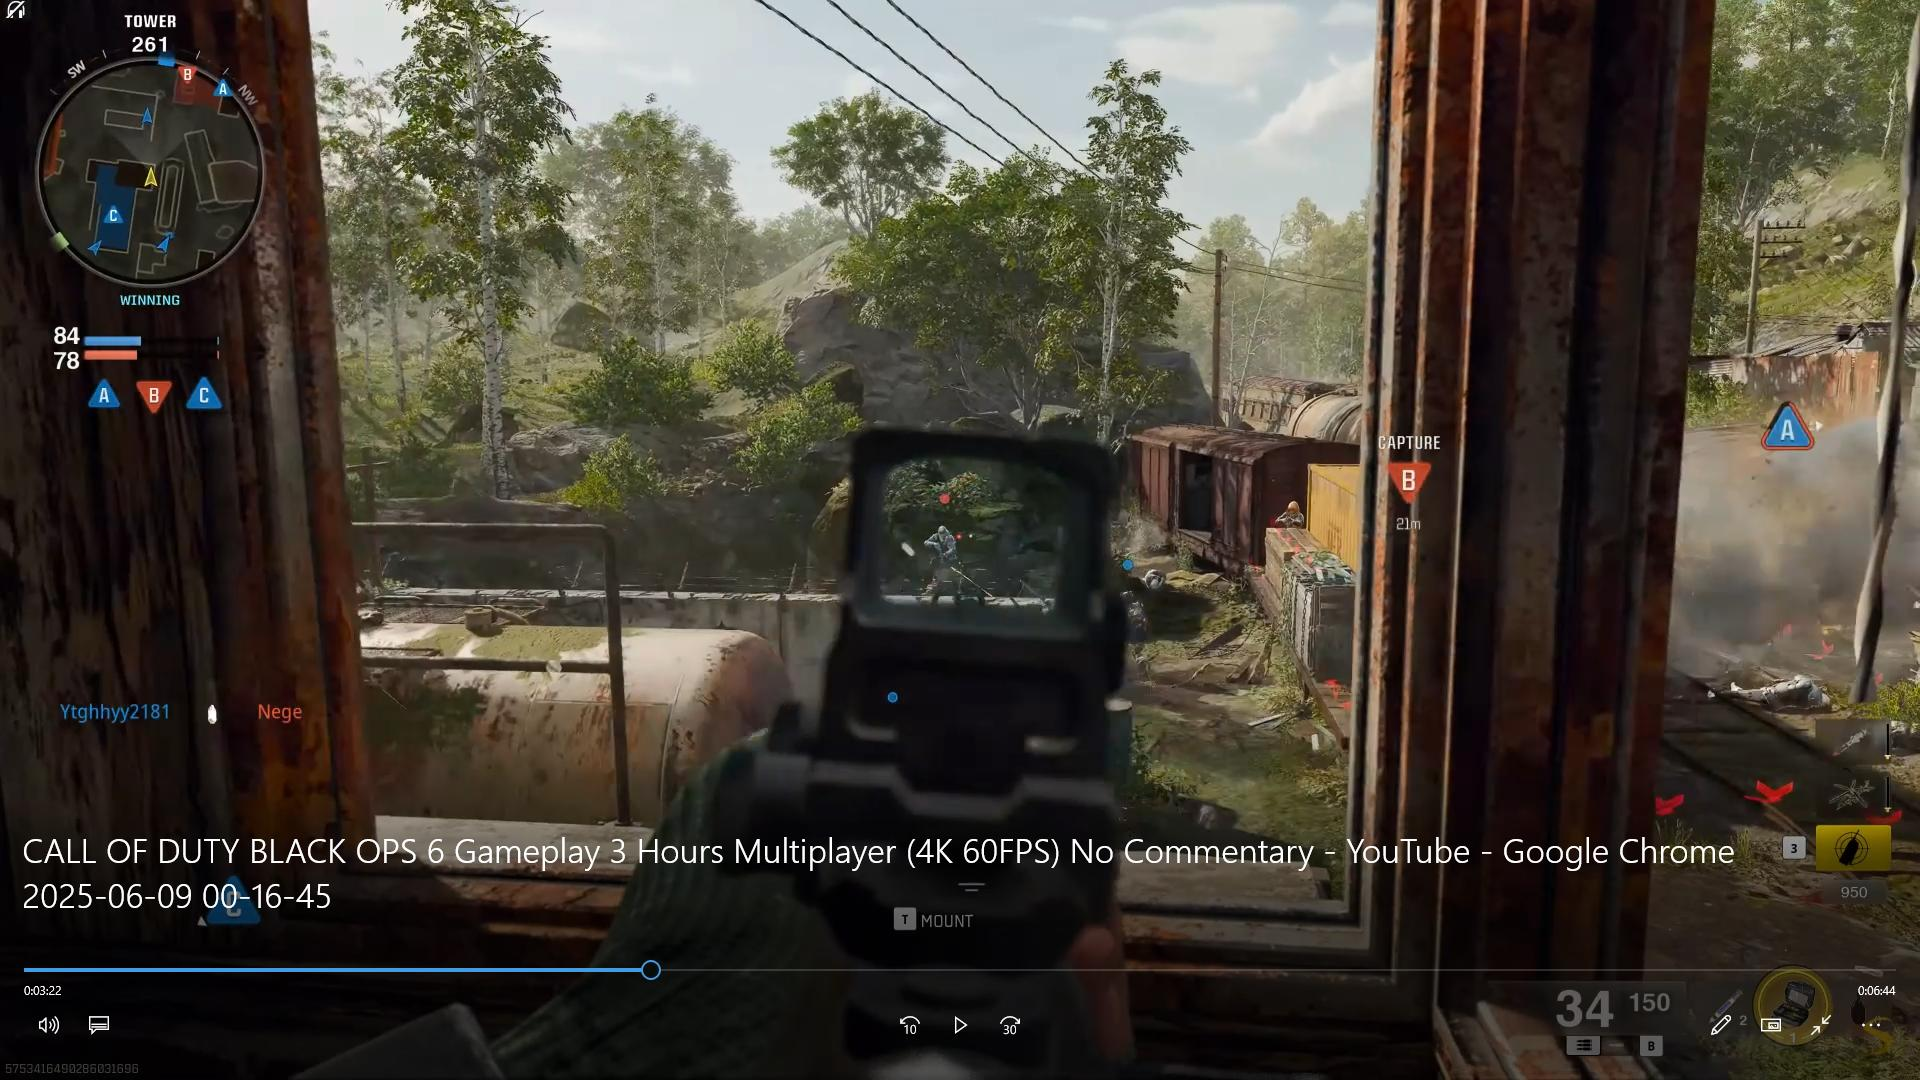Enemy: (922, 521, 960, 579)
